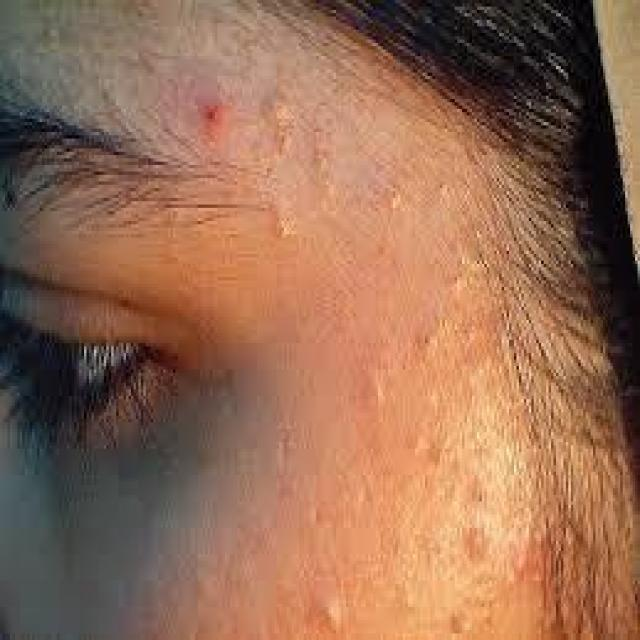blackheads: (257, 17, 304, 138)
dark spot: (373, 135, 462, 228), (408, 277, 460, 379), (284, 580, 376, 636), (252, 198, 326, 267), (454, 462, 516, 528), (354, 353, 396, 432)
